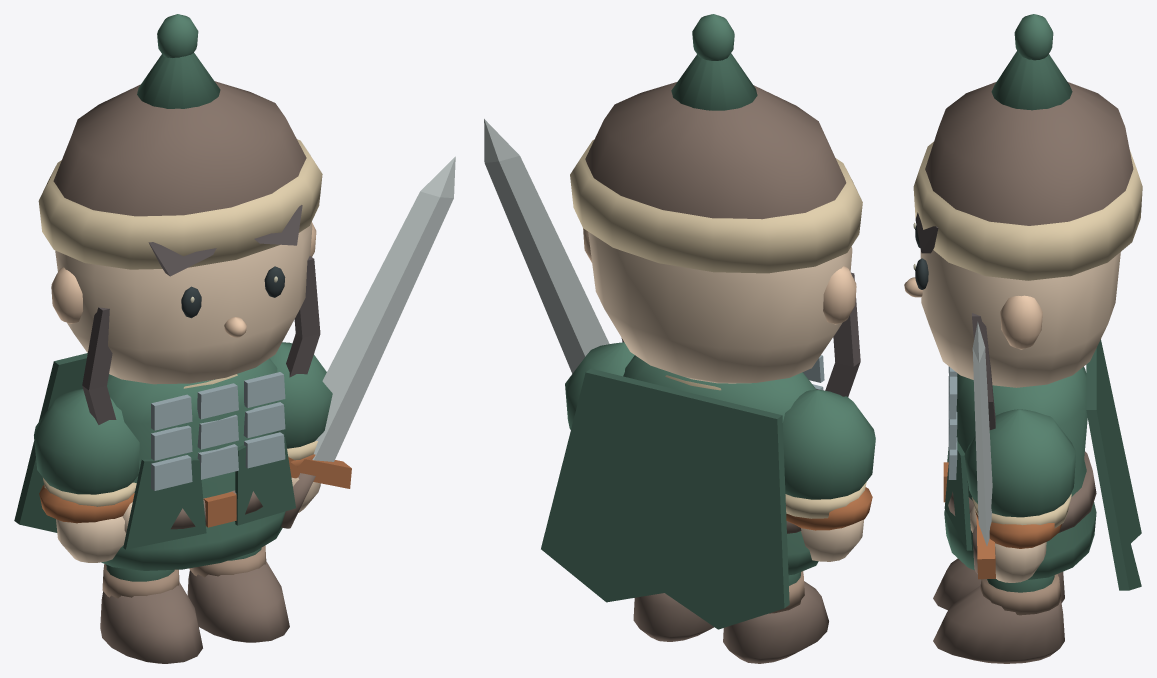
File: giant.glb
3 renders of one model, left to right at view 1: azimuth 30°, elevation 25°; view 2: azimuth 150°, elevation 25°; view 3: azimuth 270°, elevation 25°, orthographic. The views are drawn at different scales.
Parts seen in each view (by area): view 1: Regional helmet, Soft cheek head, Fur hat brim, Shaped bevel sword, Short folded tunic, Puff sleeve, Round leather boot, Round leather boot.001, Coat fold, Puff sleeve.001, Mongol pointed cap, Coat fold.001 (+25 smaller); view 2: Short scalloped cape, Regional helmet, Soft cheek head, Fur hat brim, Shaped bevel sword, Puff sleeve, Short folded tunic, Round leather boot, Mongol pointed cap, Round leather boot.001, Braided side lock, Puff sleeve.001 (+5 smaller); view 3: Regional helmet, Soft cheek head, Fur hat brim, Puff sleeve.001, Short folded tunic, Round leather boot.001, Short scalloped cape, Mongol pointed cap, Shaped bevel sword, Ear.001, Boot turn cuff.001, Coat fold.001 (+11 smaller).
Boxes of the visible parts, <box> form: Regional helmet: <box>53,81,306,216</box>; Soft cheek head: <box>55,222,312,384</box>; Fur hat brim: <box>38,139,322,269</box>; Shaped bevel sword: <box>312,156,455,461</box>; Short folded tunic: <box>101,358,285,570</box>; Puff sleeve: <box>34,389,139,494</box>; Round leather boot: <box>100,582,202,663</box>; Round leather boot.001: <box>187,561,289,642</box>; Coat fold: <box>123,458,206,549</box>; Puff sleeve.001: <box>270,342,332,448</box>; Mongol pointed cap: <box>137,53,220,108</box>; Coat fold.001: <box>235,429,295,525</box>; Short scalloped cape: <box>541,368,789,629</box>; Regional helmet: <box>585,82,846,219</box>; Soft cheek head: <box>588,232,852,383</box>; Fur hat brim: <box>570,139,862,273</box>; Shaped bevel sword: <box>484,119,609,373</box>; Puff sleeve: <box>783,390,875,499</box>; Short folded tunic: <box>623,355,818,575</box>; Round leather boot: <box>723,581,828,663</box>; Mongol pointed cap: <box>671,53,757,110</box>; Round leather boot.001: <box>633,593,713,641</box>; Braided side lock: <box>825,272,860,396</box>; Puff sleeve.001: <box>565,342,634,429</box>; Regional helmet: <box>925,82,1133,225</box>; Soft cheek head: <box>920,250,1120,387</box>; Fur hat brim: <box>913,141,1142,280</box>; Puff sleeve.001: <box>964,409,1075,517</box>; Short folded tunic: <box>944,366,1096,580</box>; Round leather boot.001: <box>933,585,1064,663</box>; Short scalloped cape: <box>1086,339,1141,590</box>; Mongol pointed cap: <box>991,51,1072,110</box>; Shaped bevel sword: <box>972,322,992,545</box>; Ear.001: <box>1000,295,1042,349</box>; Boot turn cuff.001: <box>980,574,1061,615</box>; Coat fold.001: <box>944,441,972,550</box>.
Bounding box in the file's own units: 1.65 × 2.45 × 0.8596.
